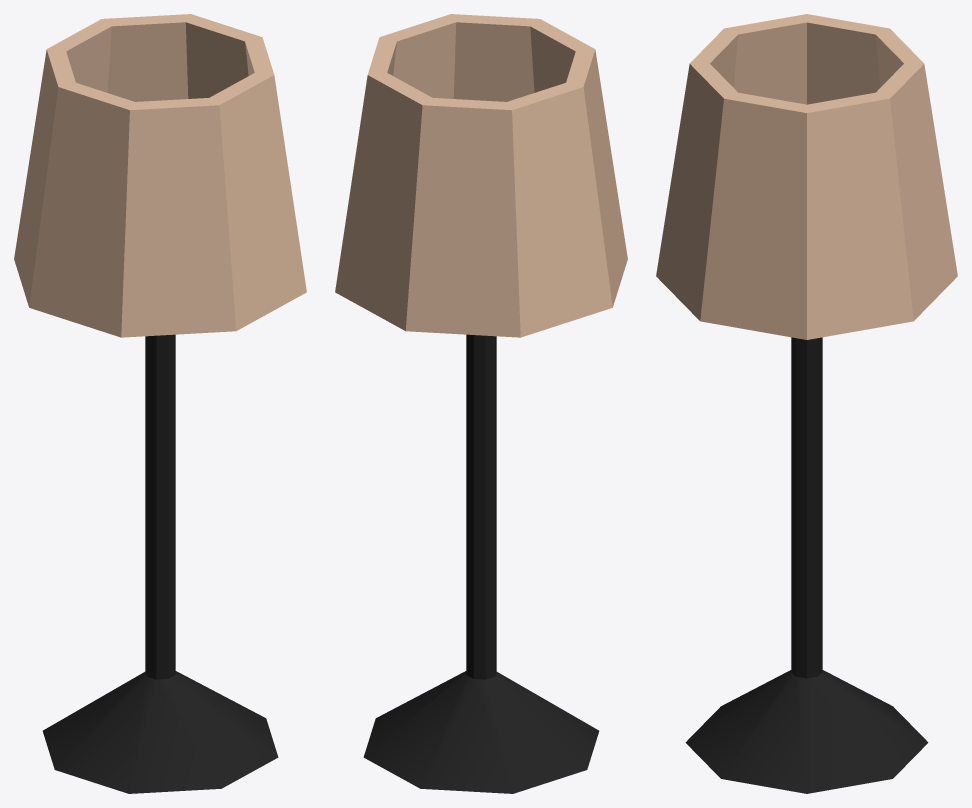
File: ShortLamp_1.fbx
The picture shows the model from 3 angles, left to right: view 1: azimuth 30°, elevation 25°; view 2: azimuth 150°, elevation 25°; view 3: azimuth 270°, elevation 25°; orthographic projection.
Parts seen in each view (by area): view 1: pCylinder8, pCylinder11; view 2: pCylinder8, pCylinder11; view 3: pCylinder8, pCylinder11.
Part boxes in pixels (left/top/right/bottom): pCylinder8: left=14, top=14, right=306, bottom=337; pCylinder11: left=42, top=334, right=278, bottom=793; pCylinder8: left=335, top=14, right=627, bottom=337; pCylinder11: left=363, top=334, right=599, bottom=793; pCylinder8: left=656, top=14, right=957, bottom=339; pCylinder11: left=685, top=337, right=928, bottom=793.
Bounding box in the file's own units: 0.00346 × 0.00858 × 0.00346.
